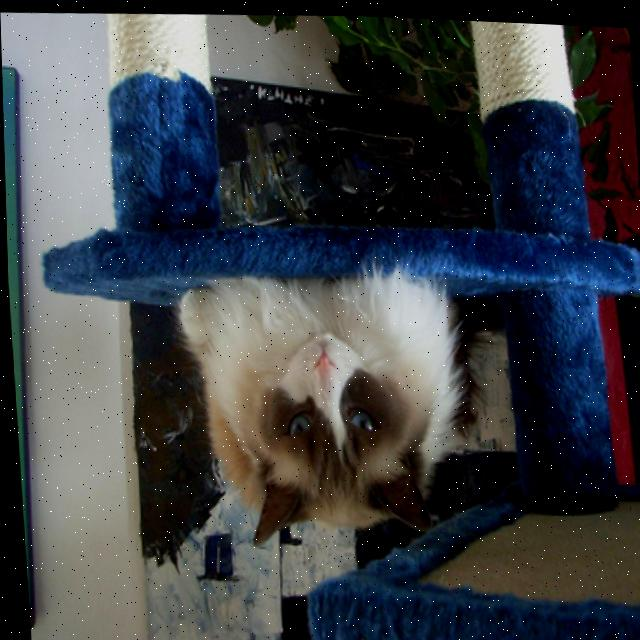Ragdoll: (167, 249, 489, 560)
